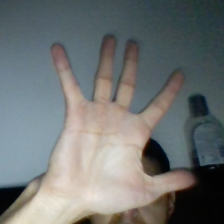left: (35, 28, 203, 215)
